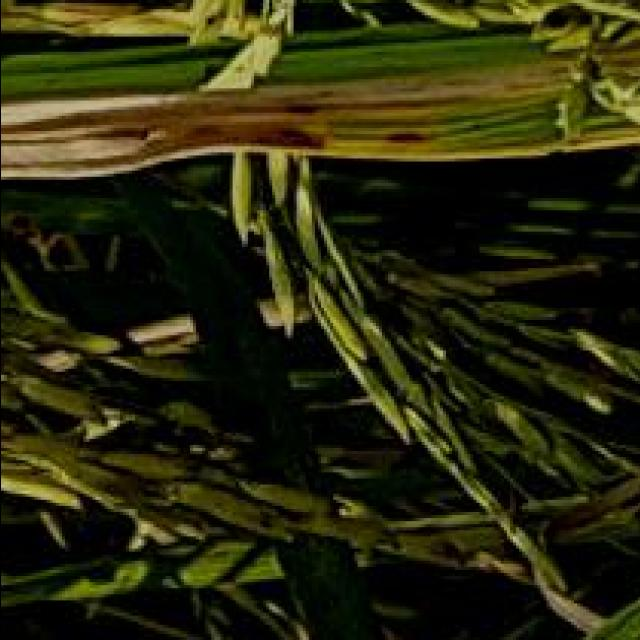Bacterial_Leaf_Blight: (0, 46, 585, 208)
